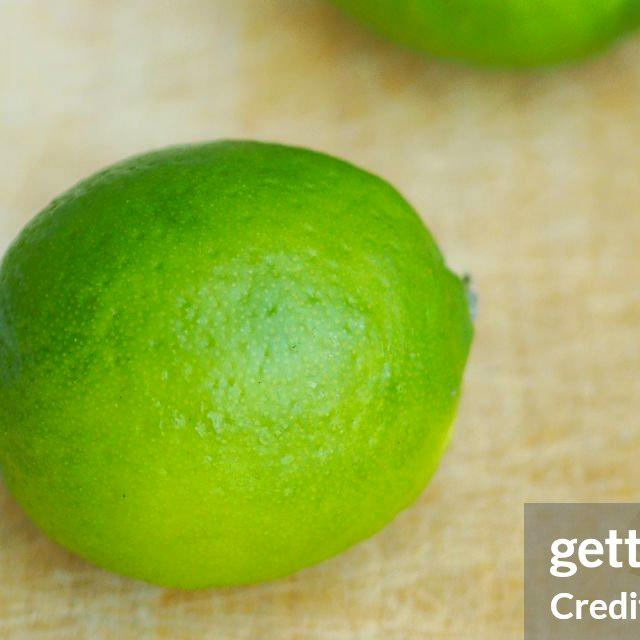lime: (0, 141, 477, 596)
